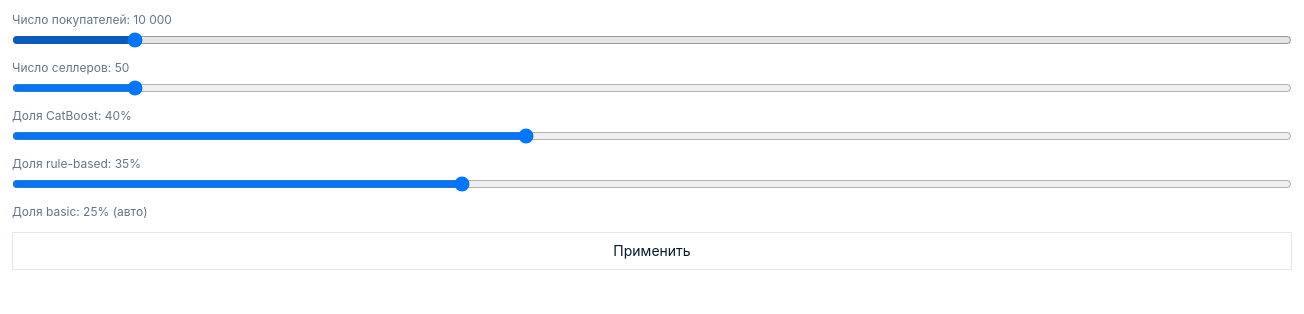
Test: EnvironmentConfigurator › posts_configure_on_apply
The width and height of the screenshot is (1304, 314).
Click the button "Применить".
click(652, 251)  # box [12, 232, 1292, 270]
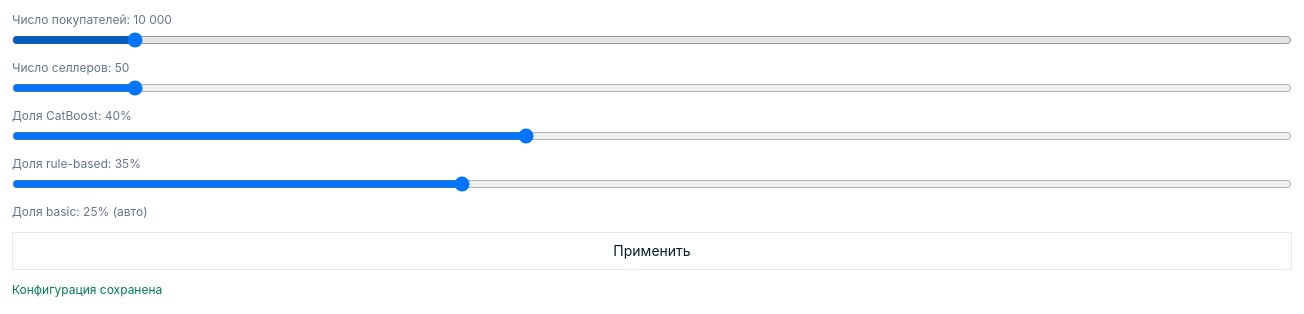
Check: the text "Конфигурация сохранена" is shown, box [12, 282, 162, 297]
